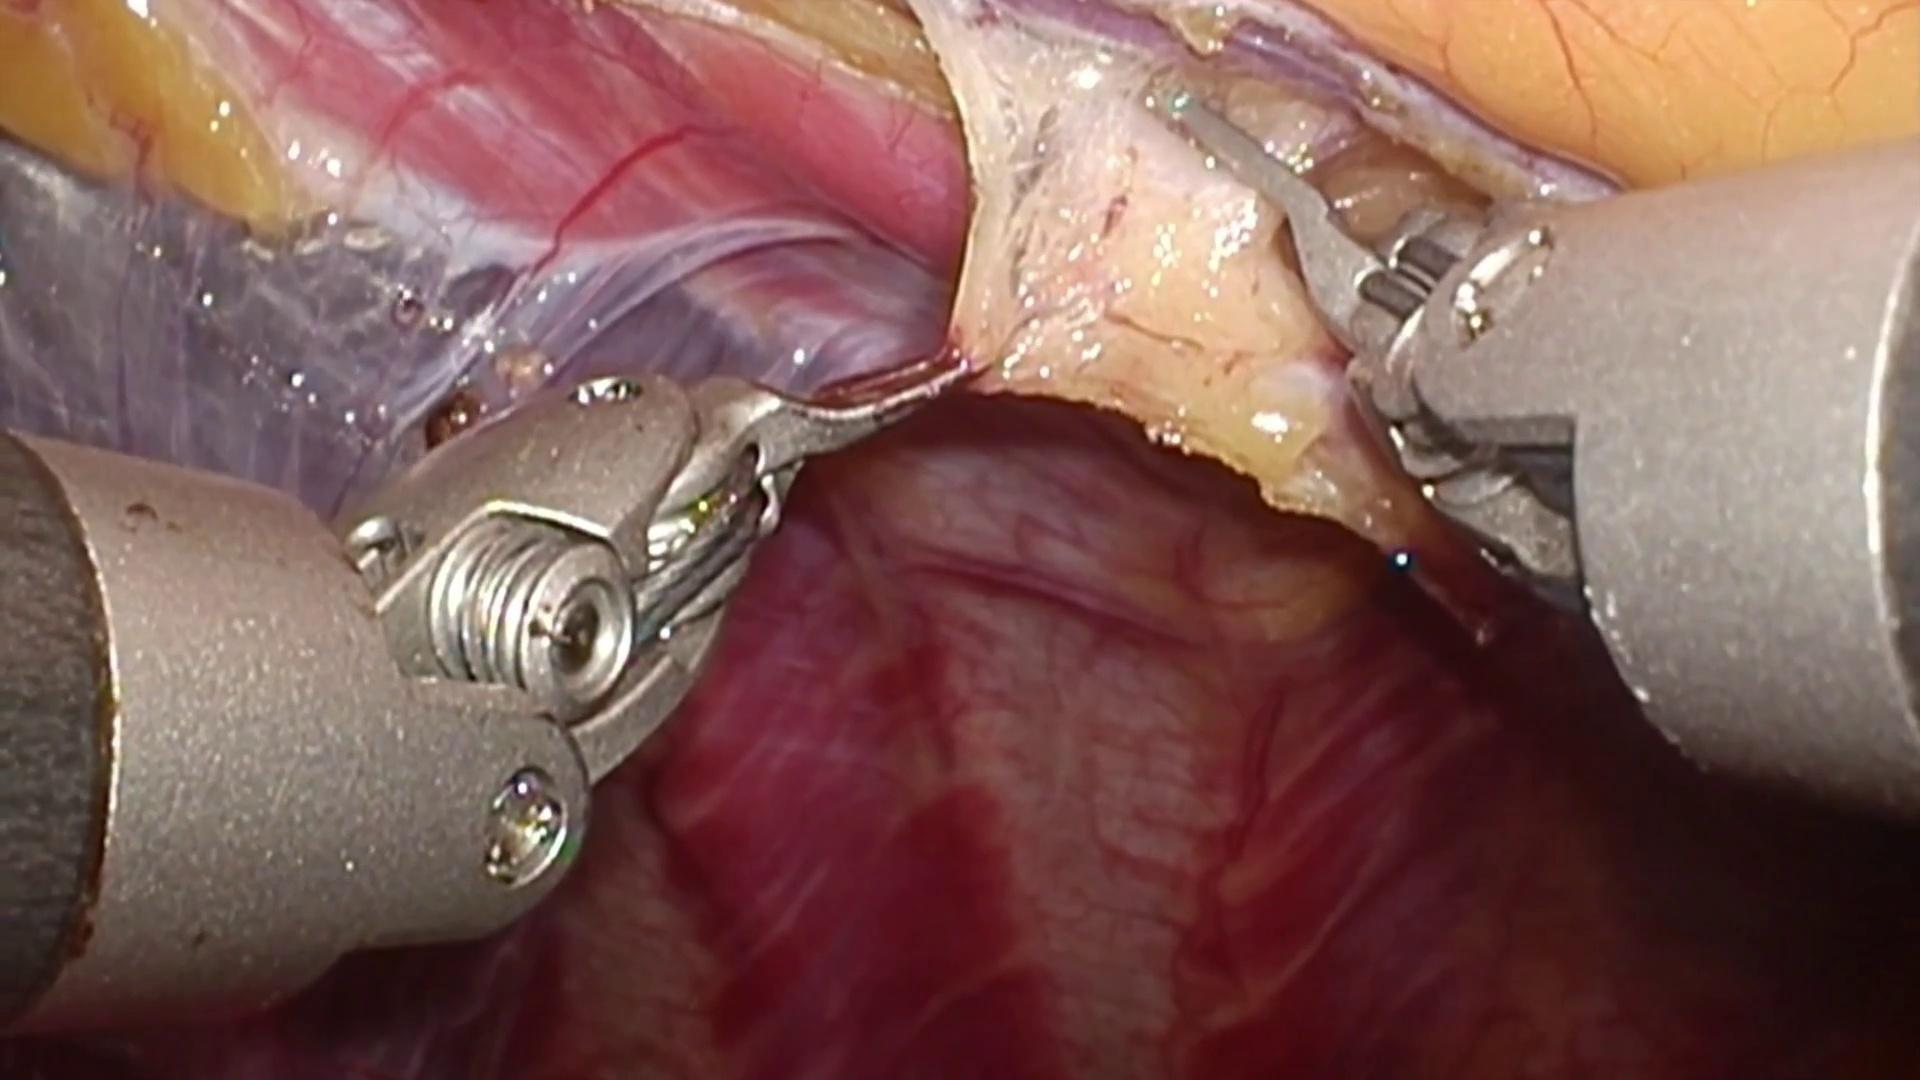Debakey: (694, 344, 965, 491)
clipper: (1174, 84, 1540, 505)
